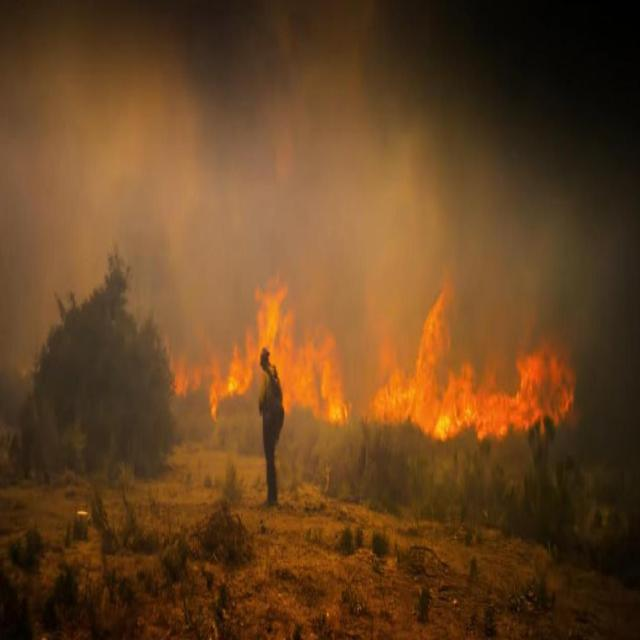Fire: (148, 256, 582, 461)
Smoke: (1, 4, 640, 254), (0, 260, 143, 476), (585, 261, 640, 480)
